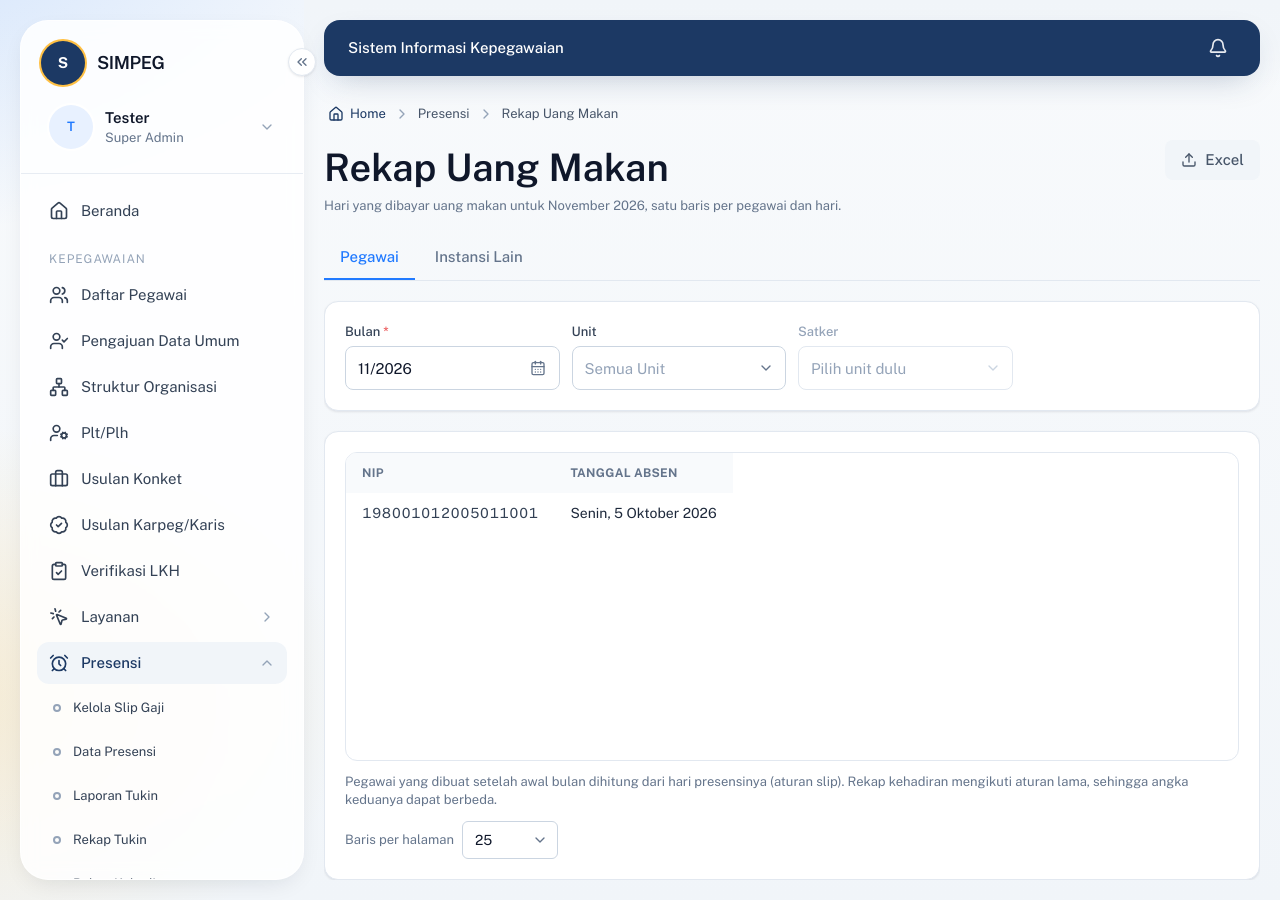
Test: tab Instansi Lain › memilih Instansi Lain memanggil daftar dengan il = true dan memakai bulan saja
Click the tab "Instansi Lain" at (479, 258), box 419,236 -> 539,280
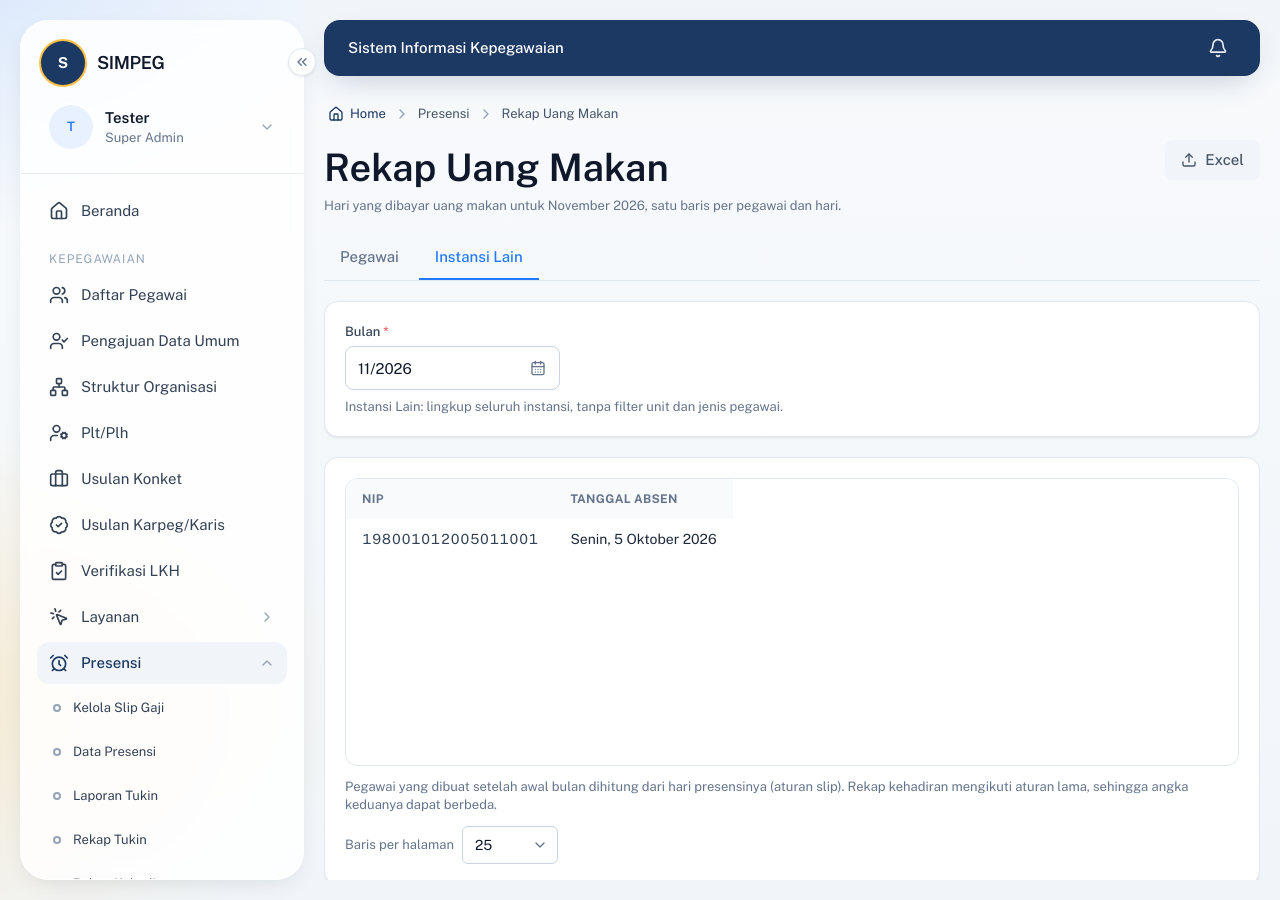
Expected: the text with test id "rekap-uang-makan-il-catatan" is shown, 345,399 -> 783,414
